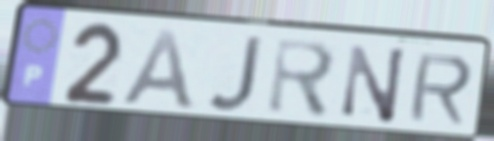2: (63, 19, 127, 109)
A: (118, 26, 199, 113)
J: (204, 34, 266, 115)
N: (339, 42, 409, 127)
R: (264, 35, 340, 123), (404, 51, 476, 127)
